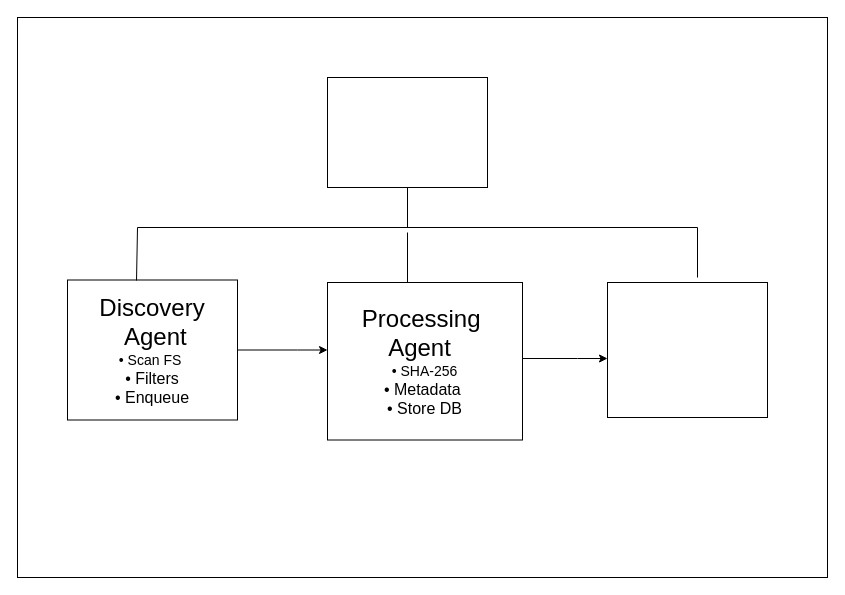
The diagram is 845 pixels wide and 595 high, and some of its shapes have lost their labels. Each missing label, with the centre of its shape:
"Orchestrator • Loads policy • Coordinates Monitoring" belongs at point (407, 132).
"Packaging Agent • CSV/JSON • Encrypt • Custody" belongs at point (687, 350).
